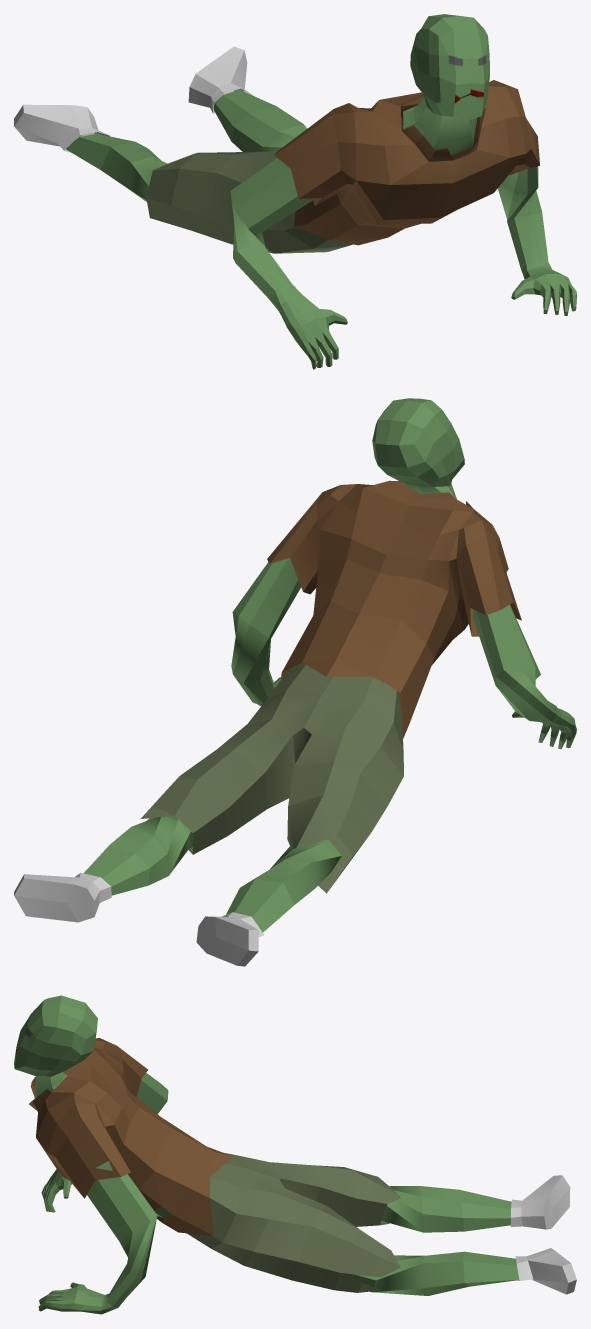
File: ZombieCrawl(4).obj
The picture shows the model from 3 angles, top to bottom: view 1: azimuth 30°, elevation 25°; view 2: azimuth 150°, elevation 25°; view 3: azimuth 270°, elevation 25°; orthographic projection. The views are drawn at different scales.
Parts seen in each view (by area): view 1: Object001; view 2: Object001; view 3: Object001.
Part boxes in pixels (x1=…): Object001: x1=14, y1=14, x2=576, y2=369; Object001: x1=14, y1=398, x2=576, y2=966; Object001: x1=14, y1=995, x2=576, y2=1314.
Bounding box in the file's own units: 28.2 × 28.26 × 52.05.
